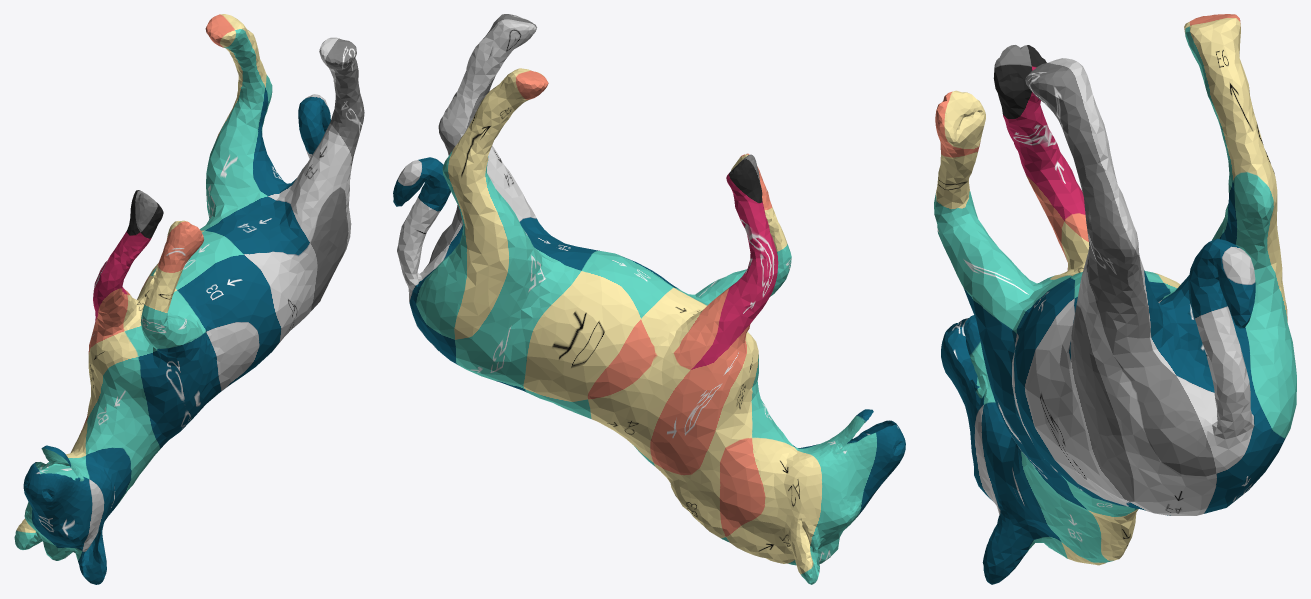
File: cougar_04-horse_09.obj
The picture shows the model from 3 angles, left to right: view 1: azimuth 30°, elevation 25°; view 2: azimuth 150°, elevation 25°; view 3: azimuth 270°, elevation 25°; orthographic projection. The views are drawn at different scales.
Visible parts, largest first — view 1: cougar_04-horse_09_export; view 2: cougar_04-horse_09_export; view 3: cougar_04-horse_09_export.
Part boxes in pixels (<box>): cougar_04-horse_09_export: <box>14,14,364,584</box>; cougar_04-horse_09_export: <box>393,14,905,584</box>; cougar_04-horse_09_export: <box>934,14,1296,584</box>.
Bounding box in the file's own units: 0.8115 × 0.9212 × 0.4211.
